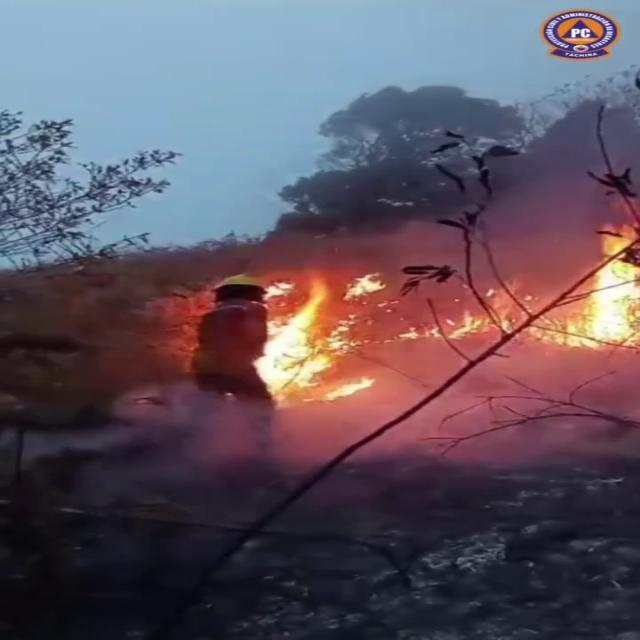Fire: (244, 268, 406, 408), (539, 217, 640, 352)
Smoke: (245, 65, 639, 268), (154, 344, 640, 505)
